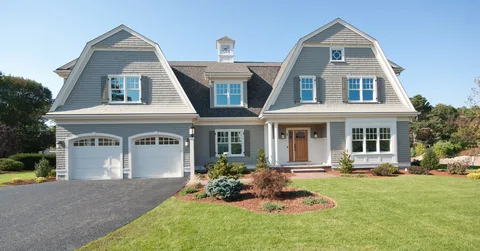private_hause: (47, 22, 419, 177)
